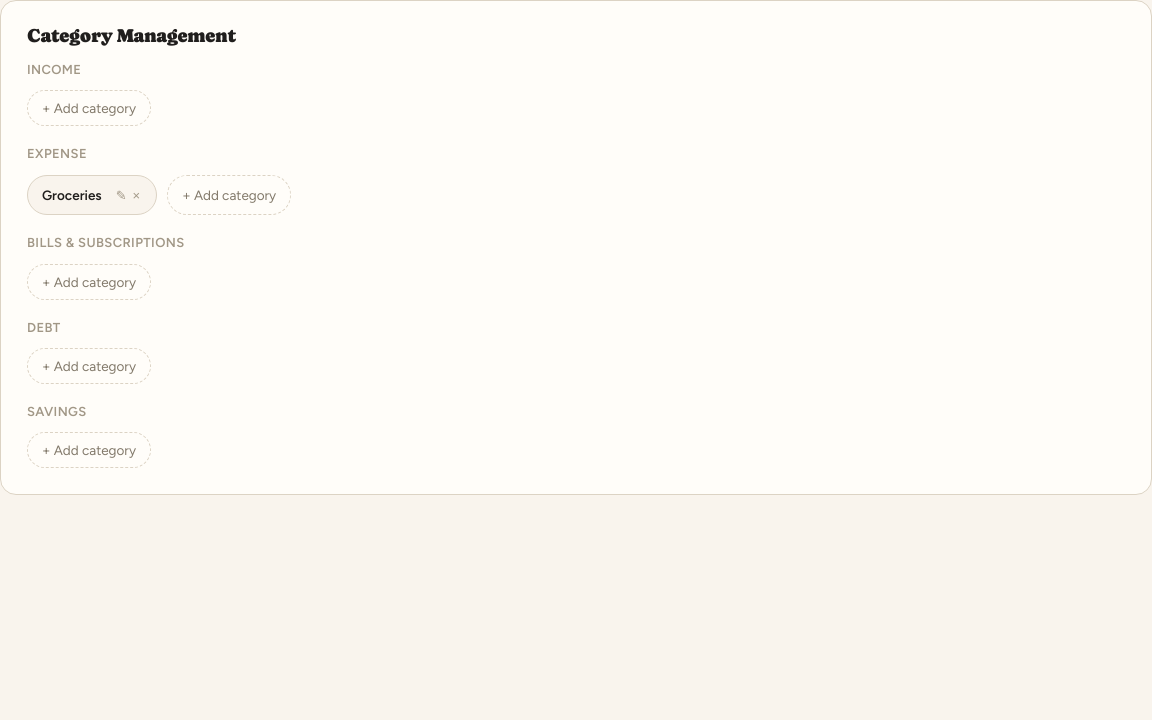
it: CategoryManagement › cancelling the delete confirmation leaves the Category alone
Click the button named "Delete Groceries": (136, 195) [131,186,142,204]
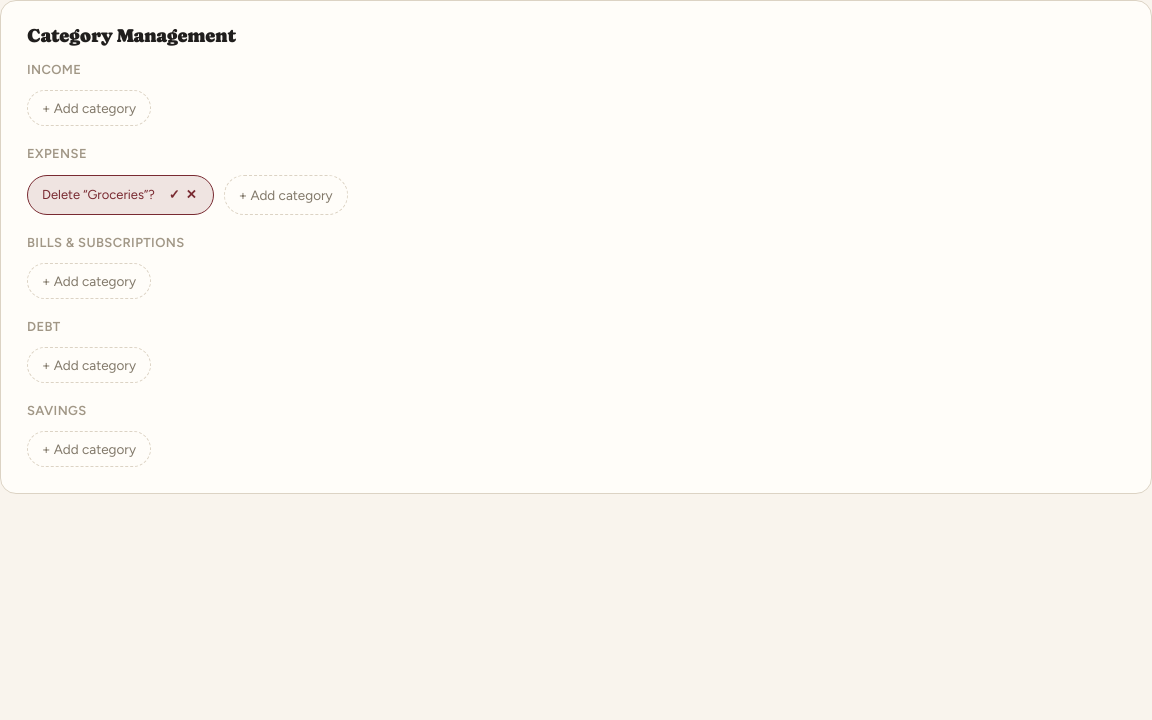
Click the button named "Cancel delete": (191, 195) [184,185,199,204]
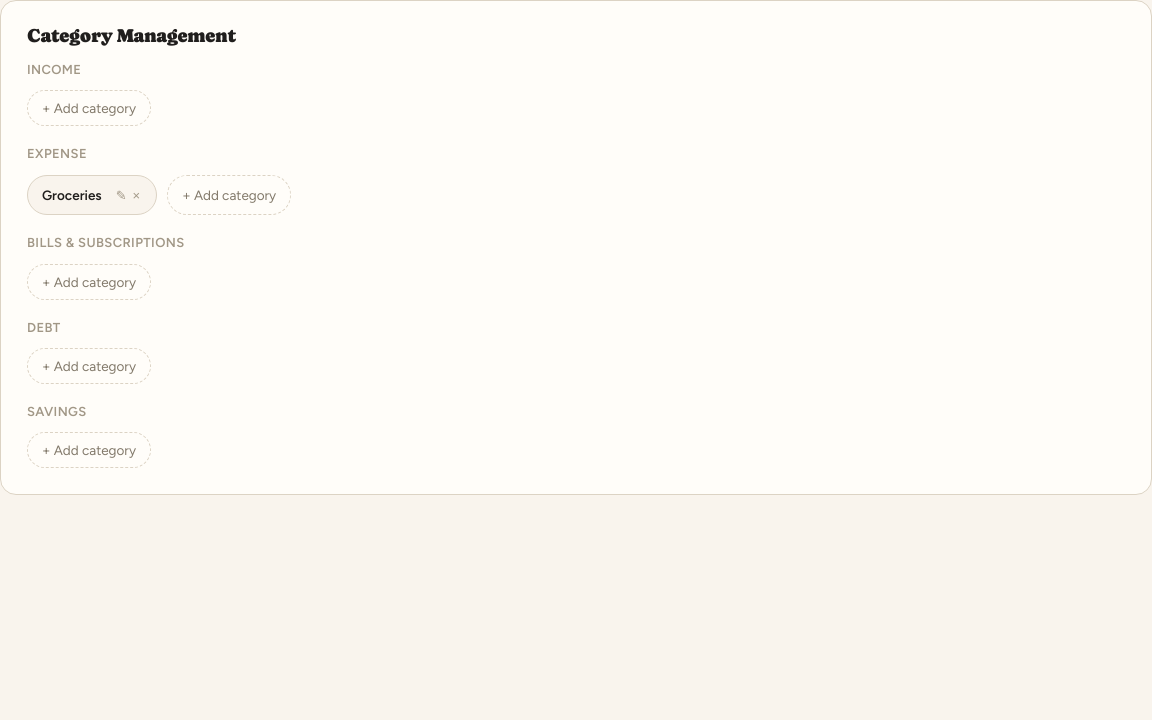
Check: the text "Groceries" is shown, box [42,184,102,205]
